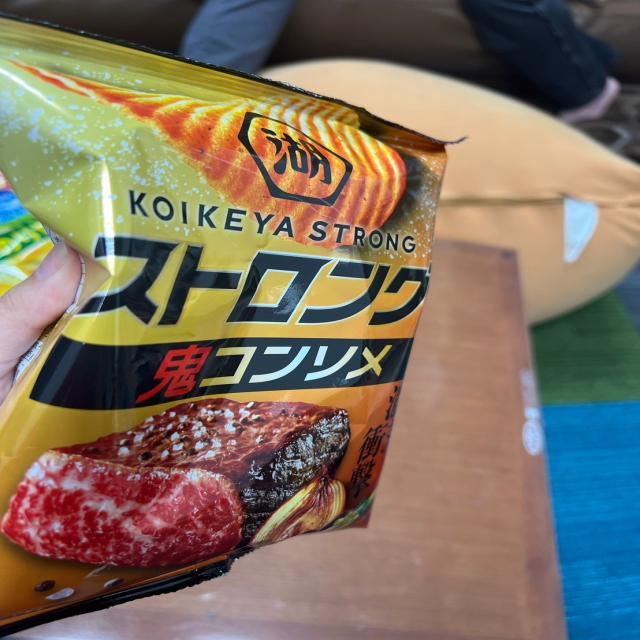chips-consome: (0, 33, 378, 570)
